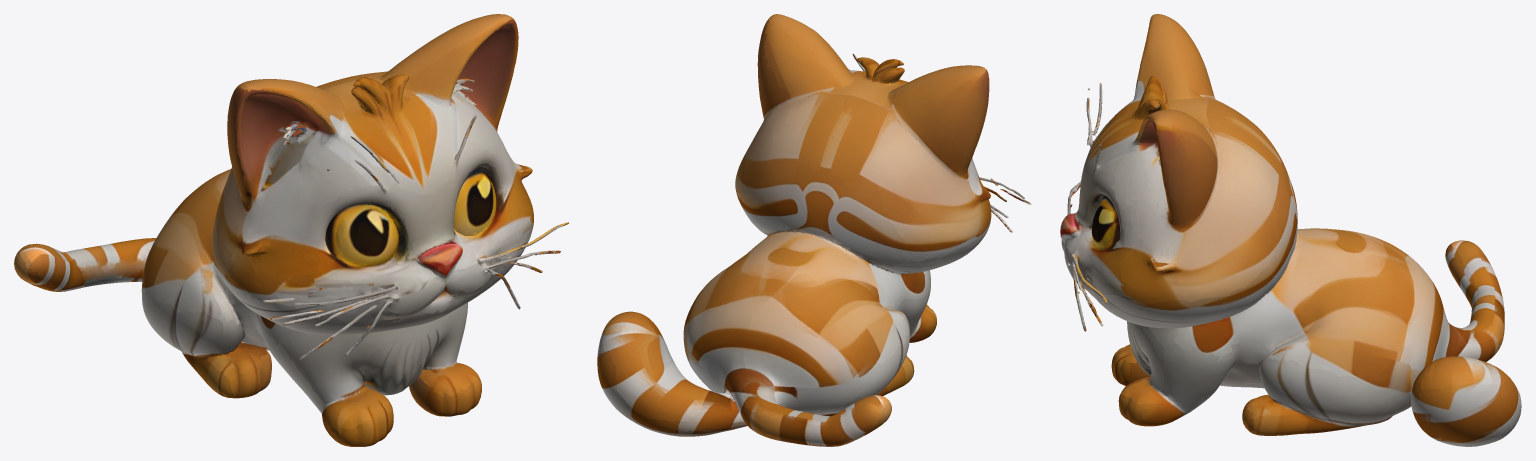
Rendered from cat_curious.glb.
3 views of the same model, side by side, from view 1: azimuth 30°, elevation 25°; view 2: azimuth 150°, elevation 25°; view 3: azimuth 270°, elevation 25° (orthographic). The views are drawn at different scales.
Visible parts, largest first — view 1: companions-cat-cat_curious_textured; view 2: companions-cat-cat_curious_textured; view 3: companions-cat-cat_curious_textured.
Boxes of the visible parts, x1,y1,x2,y2 form: companions-cat-cat_curious_textured: (14,14,568,446); companions-cat-cat_curious_textured: (597,14,1031,446); companions-cat-cat_curious_textured: (1060,14,1521,446).
Size of the model in its own units: 1.61 by 1.59 by 1.99.
Materials: 1 (1 with a texture image).
